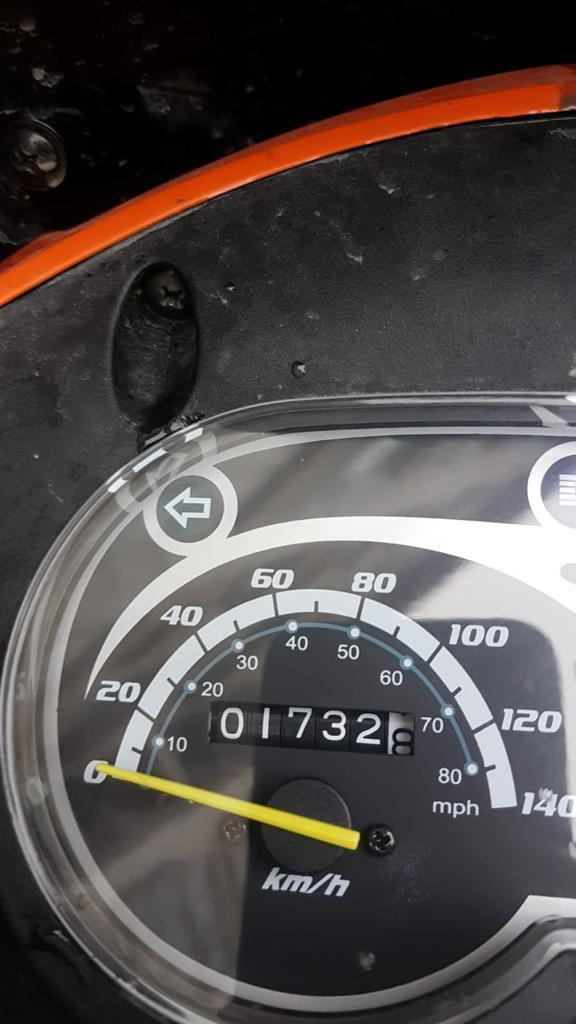0: (217, 705, 246, 740)
1: (256, 705, 273, 742)
2: (355, 711, 382, 750)
3: (321, 708, 348, 744)
7: (287, 705, 315, 744)
8: (387, 726, 416, 756)
odometer: (207, 699, 419, 761)
